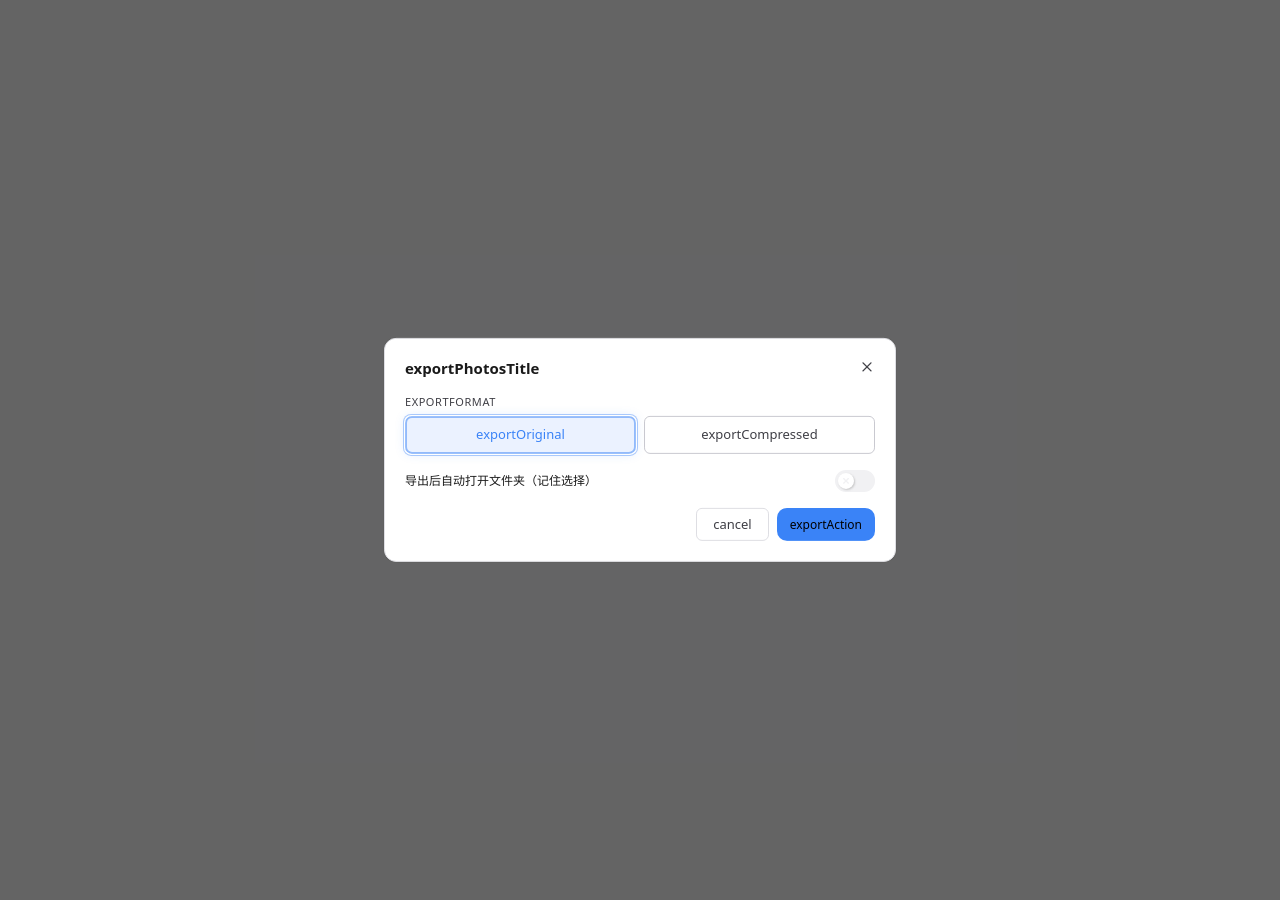
Scenario: keeps a successful export when opening the folder fails
What coordinates should you click on to do the following:
click the checkbox named "导出后自动打开文件夹（记住选择）"
I would click on:
 (855, 481)
Its box is [835, 470, 875, 492].
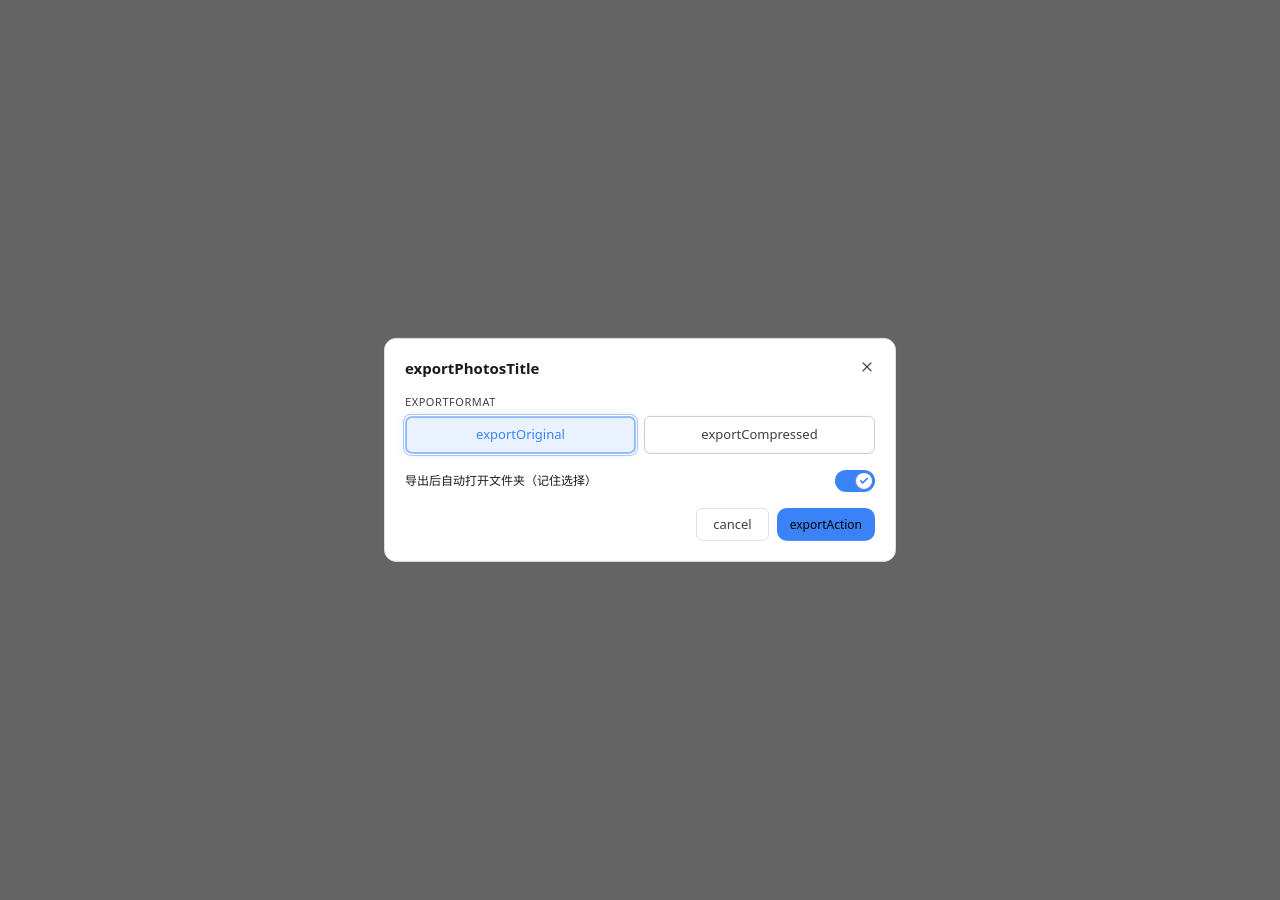
What coordinates should you click on to do the following:
click the button "exportAction"
I would click on:
 (826, 524)
Its box is [777, 508, 875, 541].
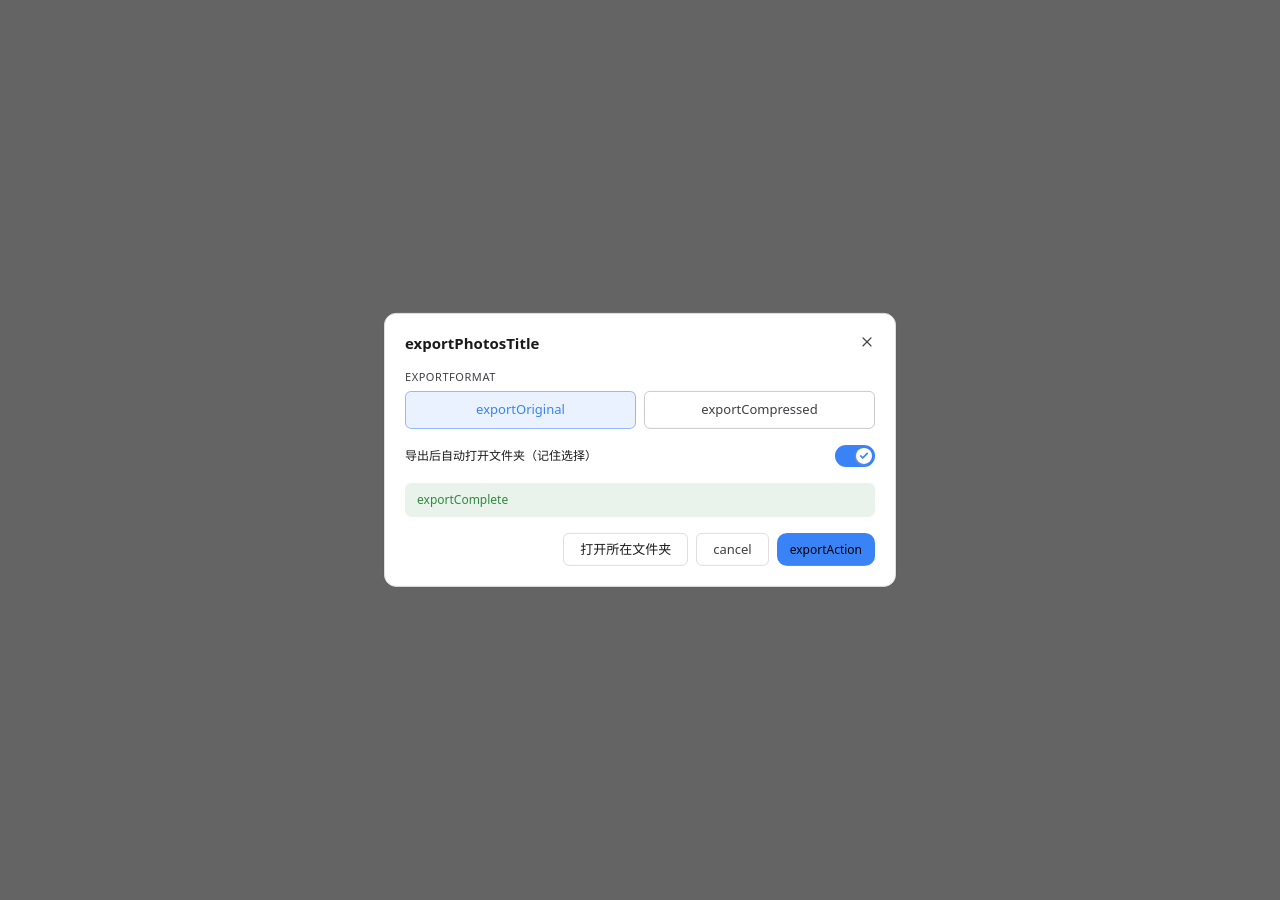
Check: the button "打开所在文件夹" is shown, box [563, 533, 688, 566]
